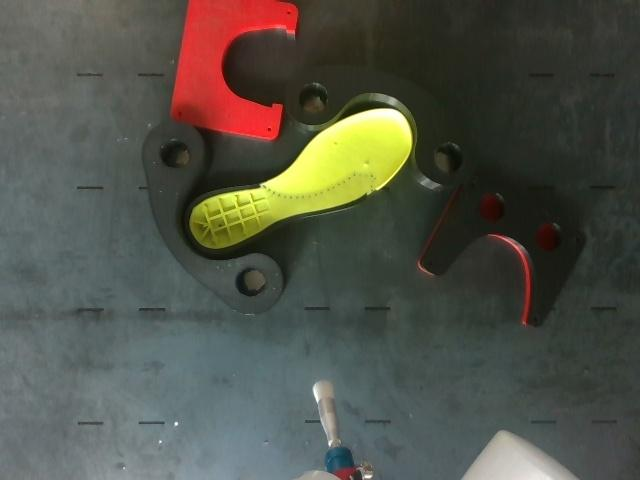shoes: (186, 109, 412, 253)
